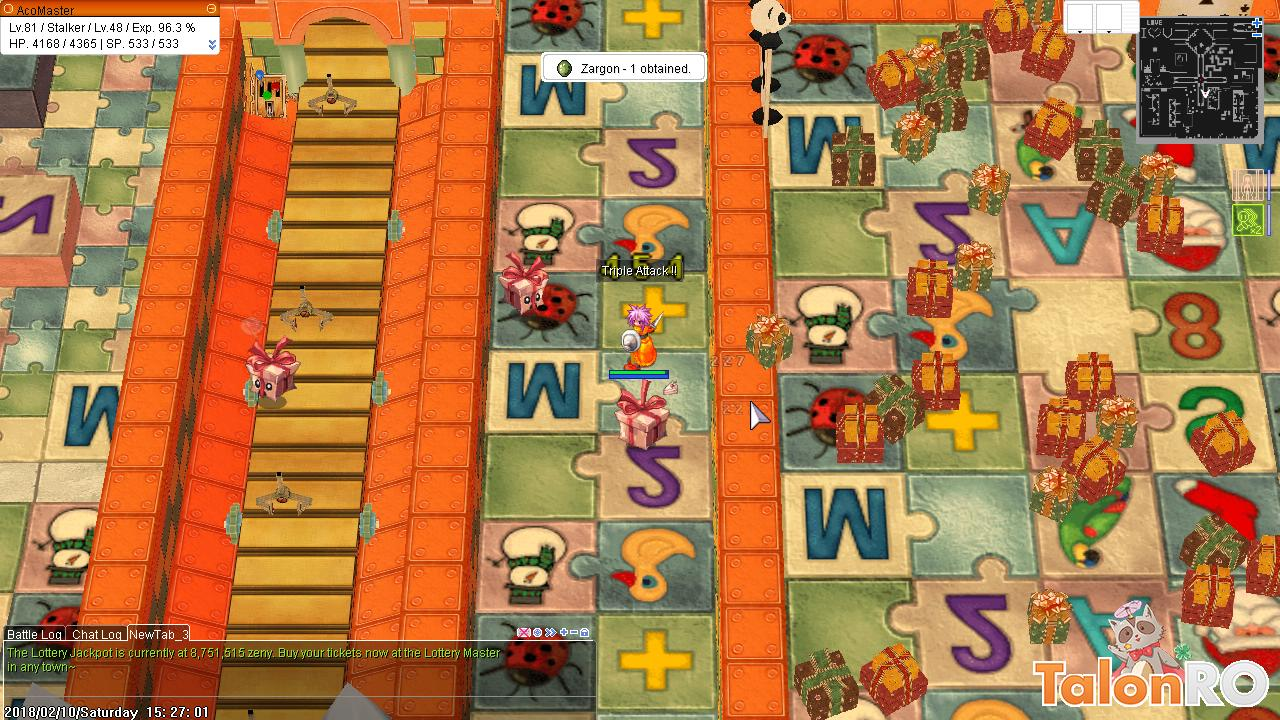loot: (663, 380, 682, 398)
myst_case: (242, 337, 301, 408), (616, 377, 673, 450), (497, 249, 550, 319)
